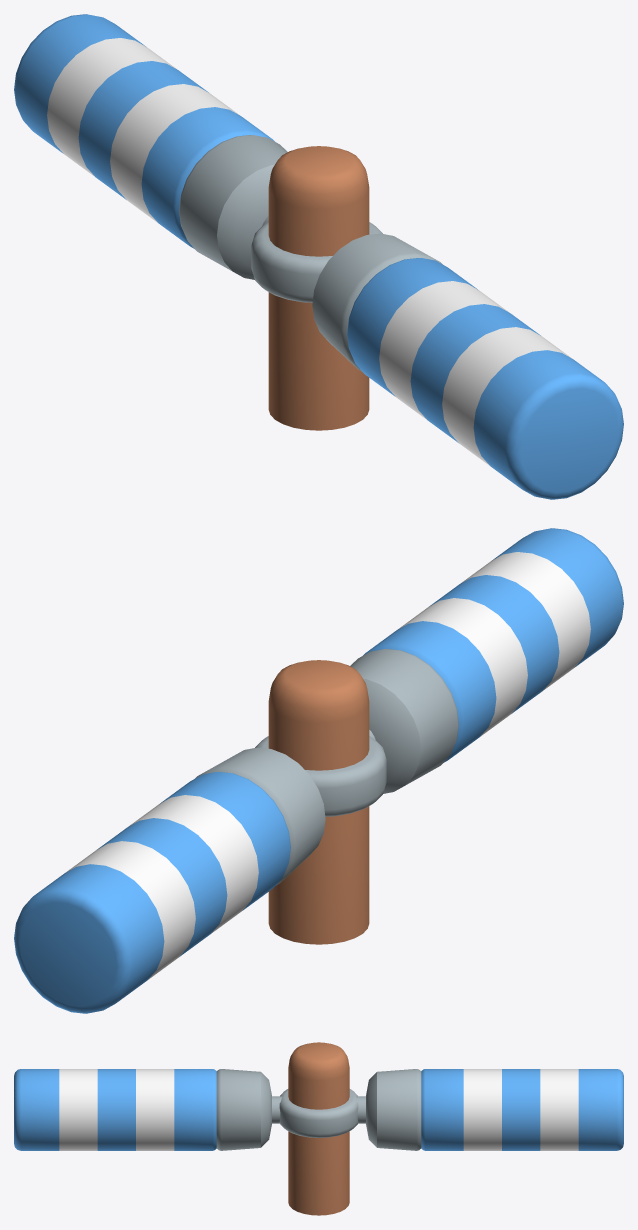
File: swiperDouble_teamBlue.glb
3 renders of one model, top to bottom at view 1: azimuth 30°, elevation 25°; view 2: azimuth 150°, elevation 25°; view 3: azimuth 270°, elevation 25°, orthographic. The views are drawn at different scales.
Visible parts, largest first — view 1: swiperDouble_teamBlue; view 2: swiperDouble_teamBlue; view 3: swiperDouble_teamBlue.
Part boxes in pixels (left/top/right/bottom): swiperDouble_teamBlue: left=14, top=14, right=623, bottom=499; swiperDouble_teamBlue: left=14, top=528, right=623, bottom=1013; swiperDouble_teamBlue: left=14, top=1042, right=623, bottom=1215.
Size of the model in its own units: 0.2418 by 0.4902 by 1.79.
